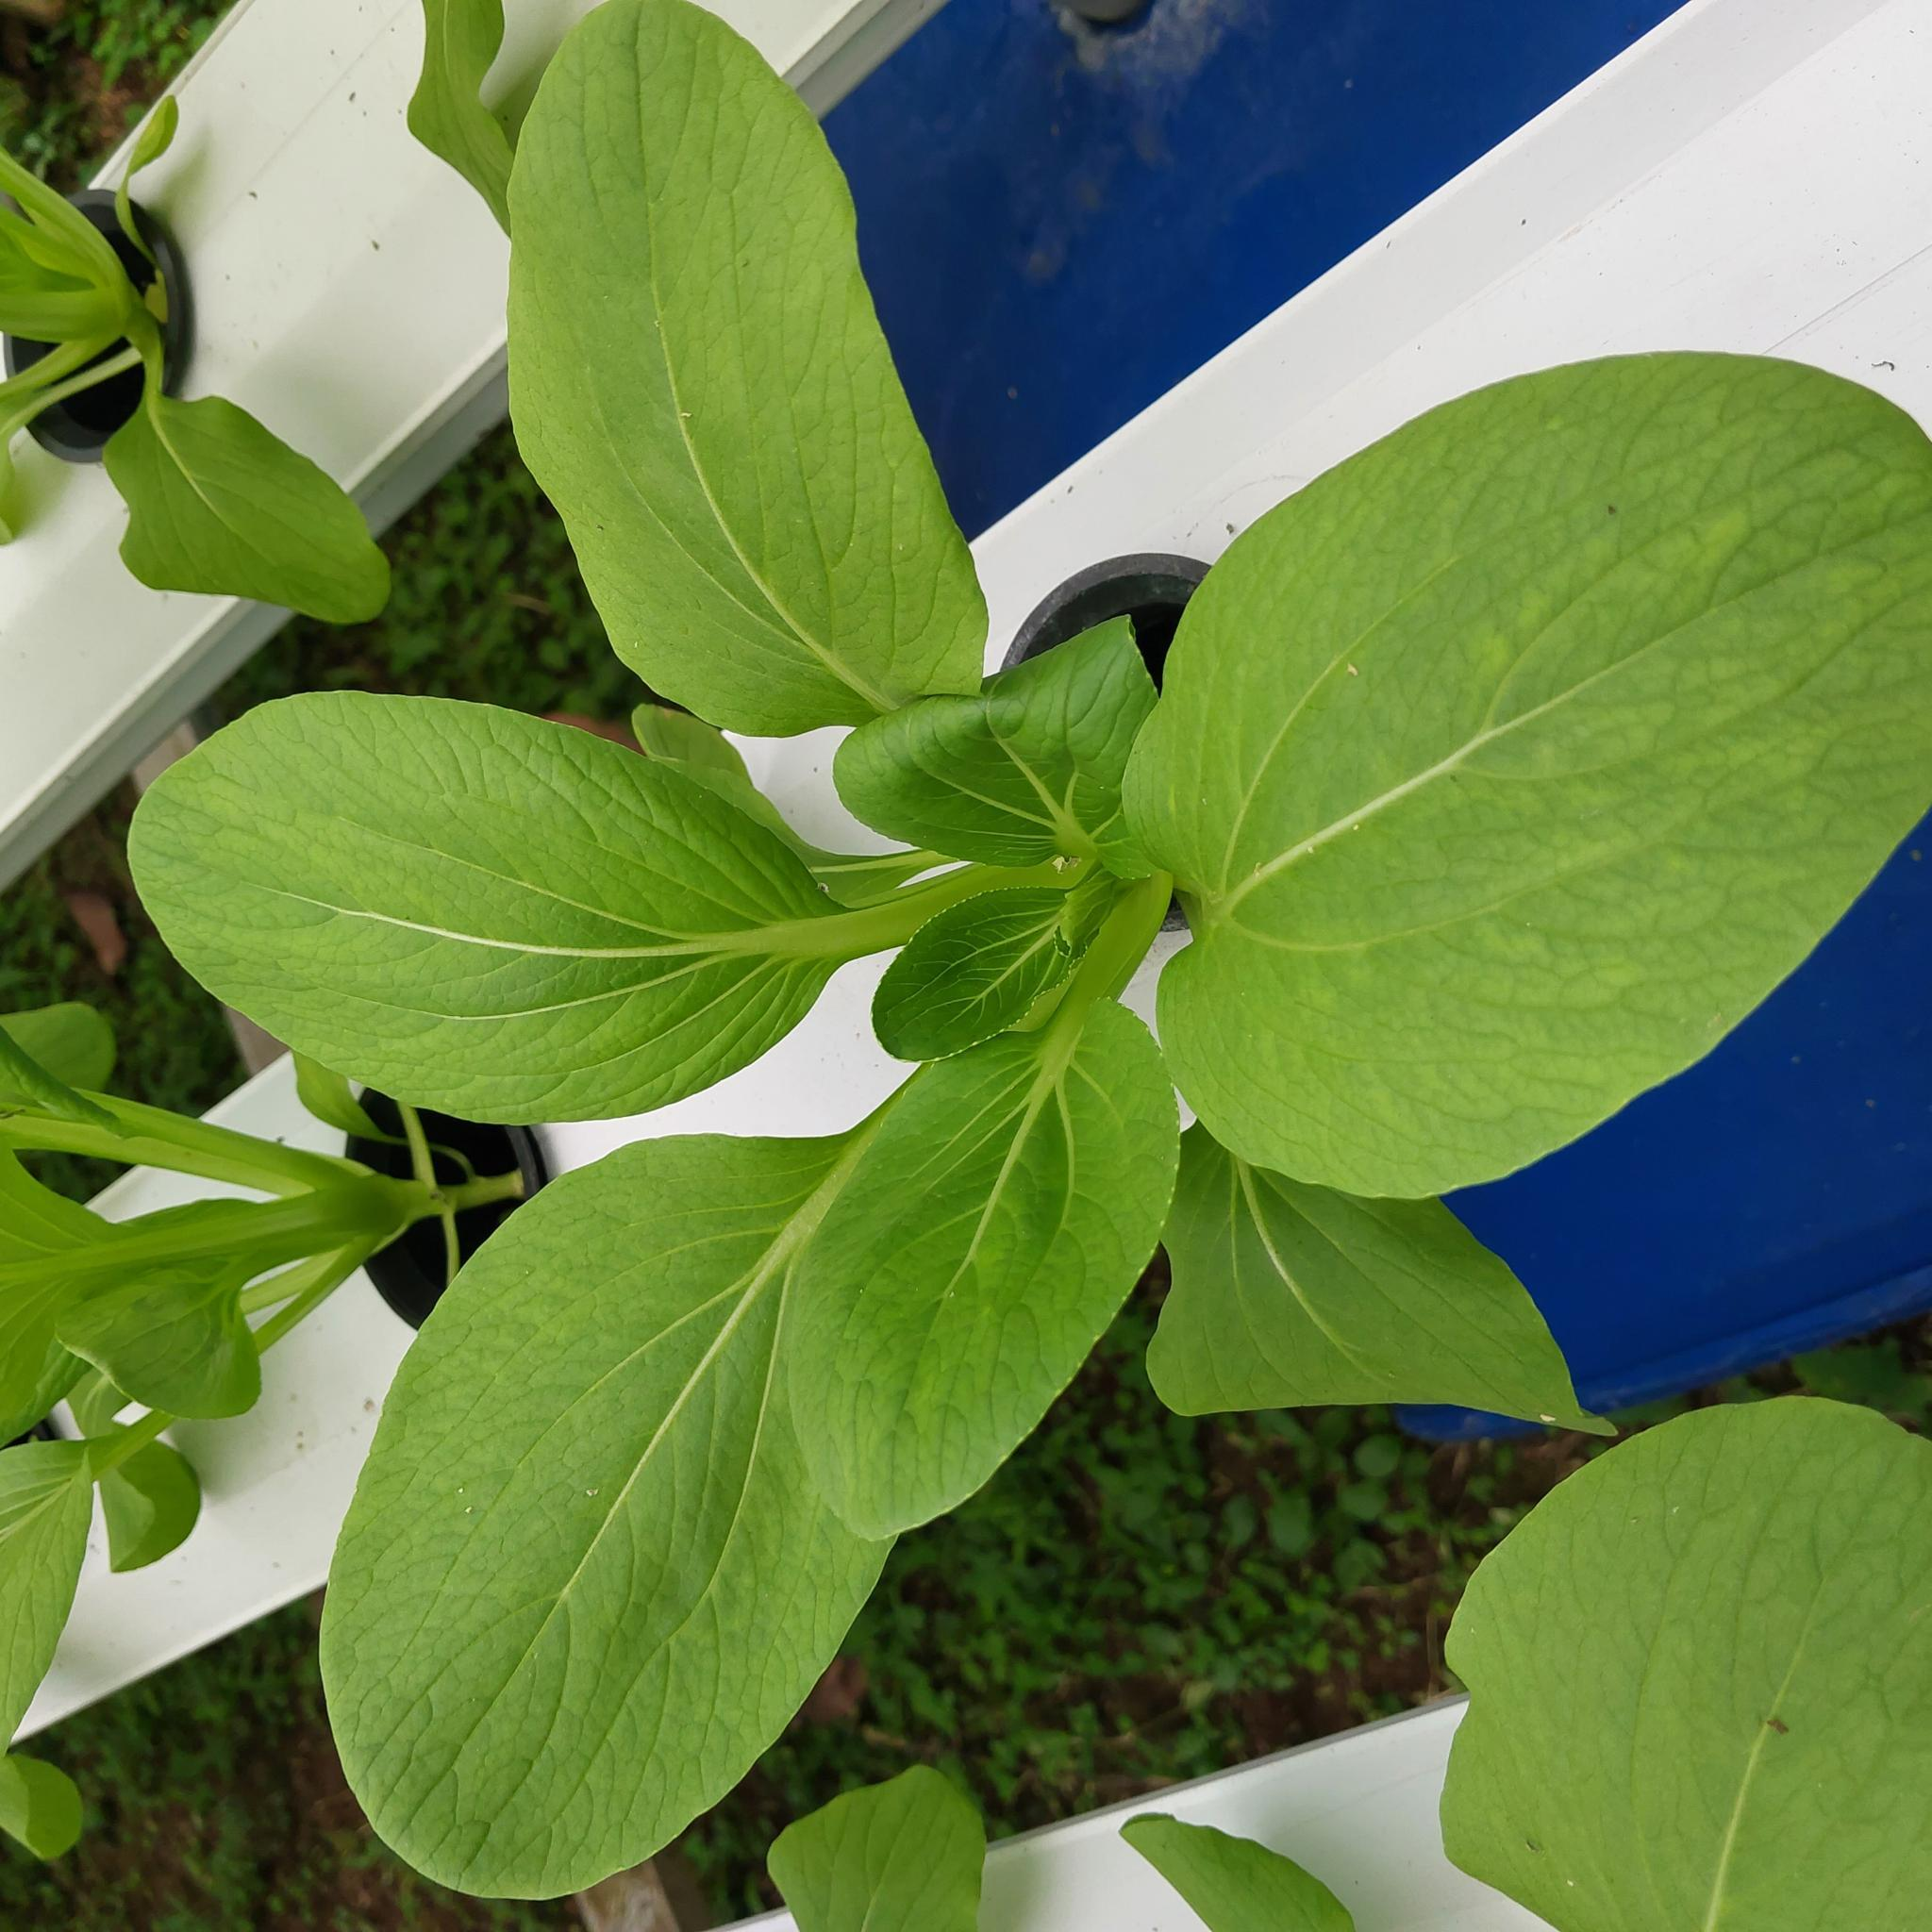Healthy-Pechay: (0, 0, 1822, 1845), (101, 375, 396, 625), (2, 1428, 122, 1822), (55, 1240, 276, 1426), (400, 0, 520, 235), (5, 343, 138, 458), (4, 1313, 103, 1460), (626, 702, 773, 800), (117, 94, 177, 274), (4, 1001, 115, 1099), (288, 1054, 400, 1134), (5, 80, 90, 179), (0, 426, 39, 540), (435, 1166, 525, 1212)
